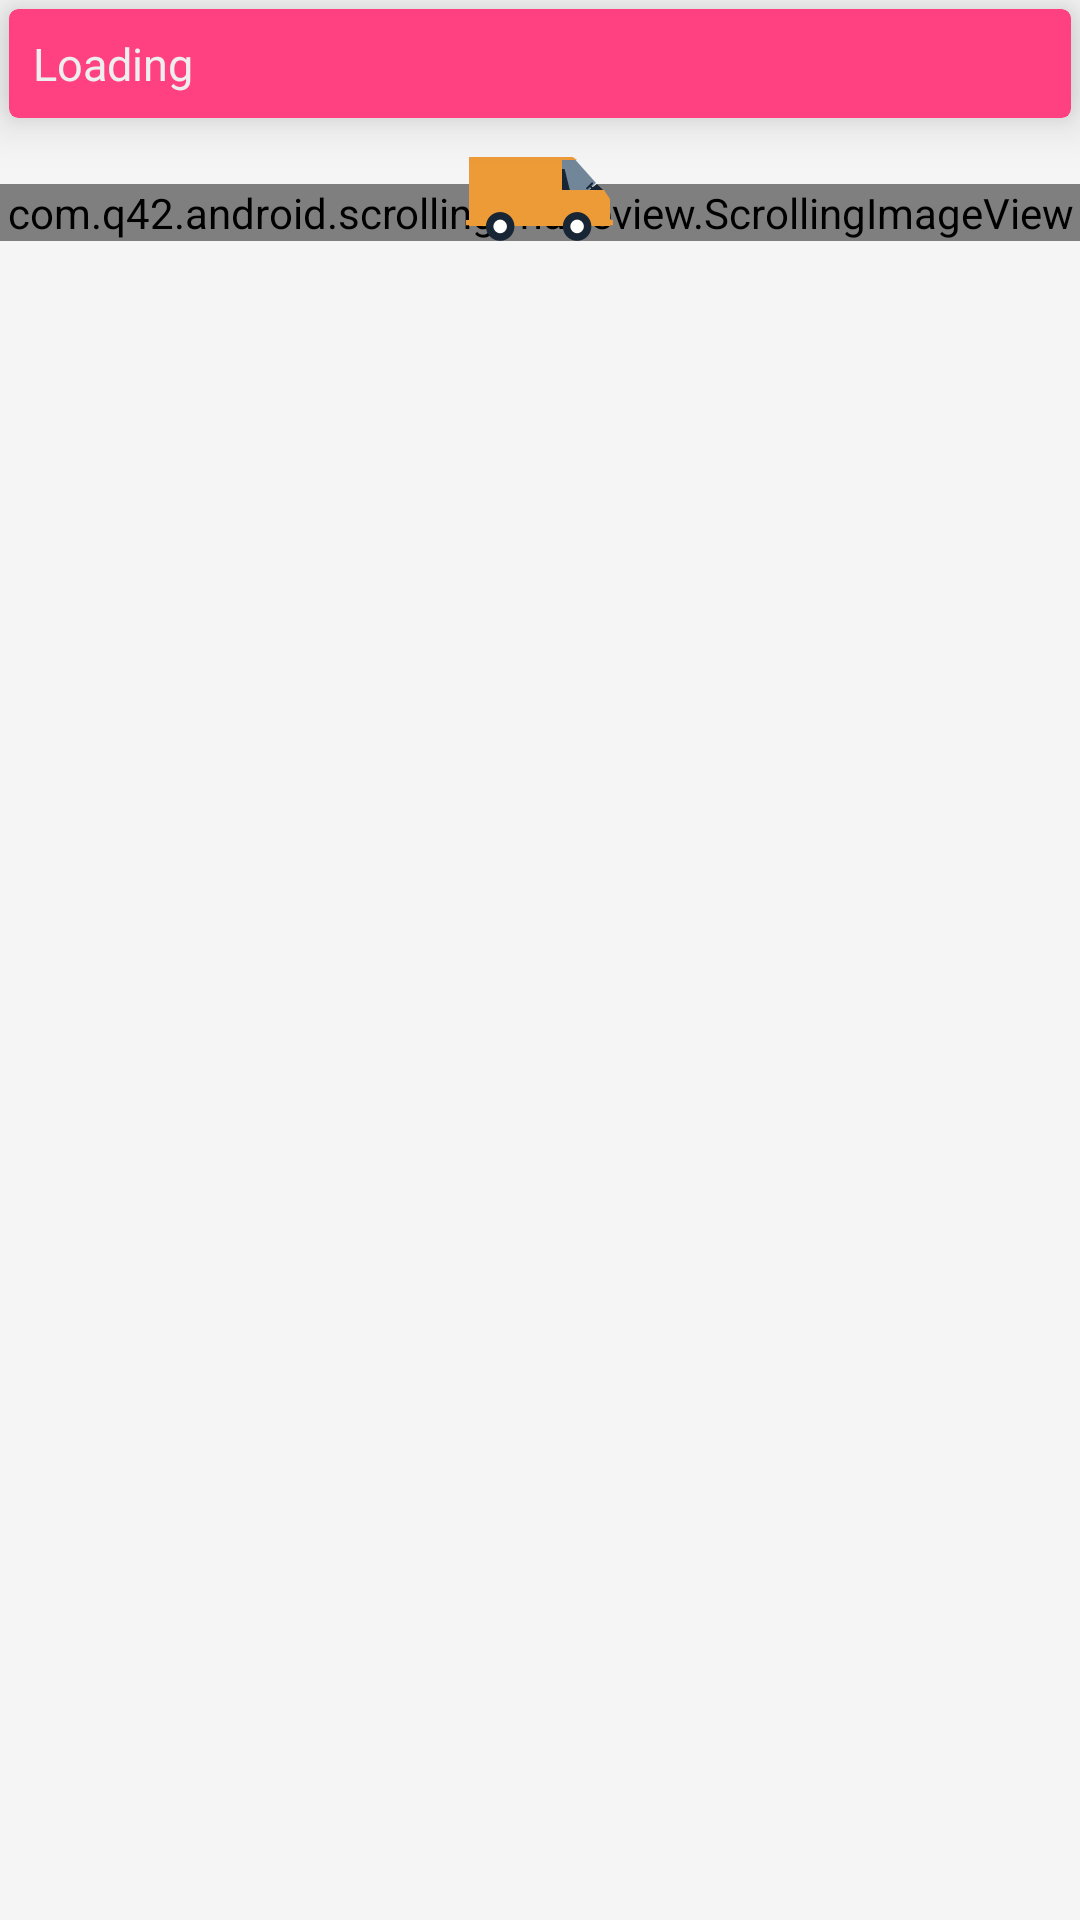

Named icons in this screenshot (1080 × 1920) and their centers, (x=x, y=y):
van: (x=539, y=199)
